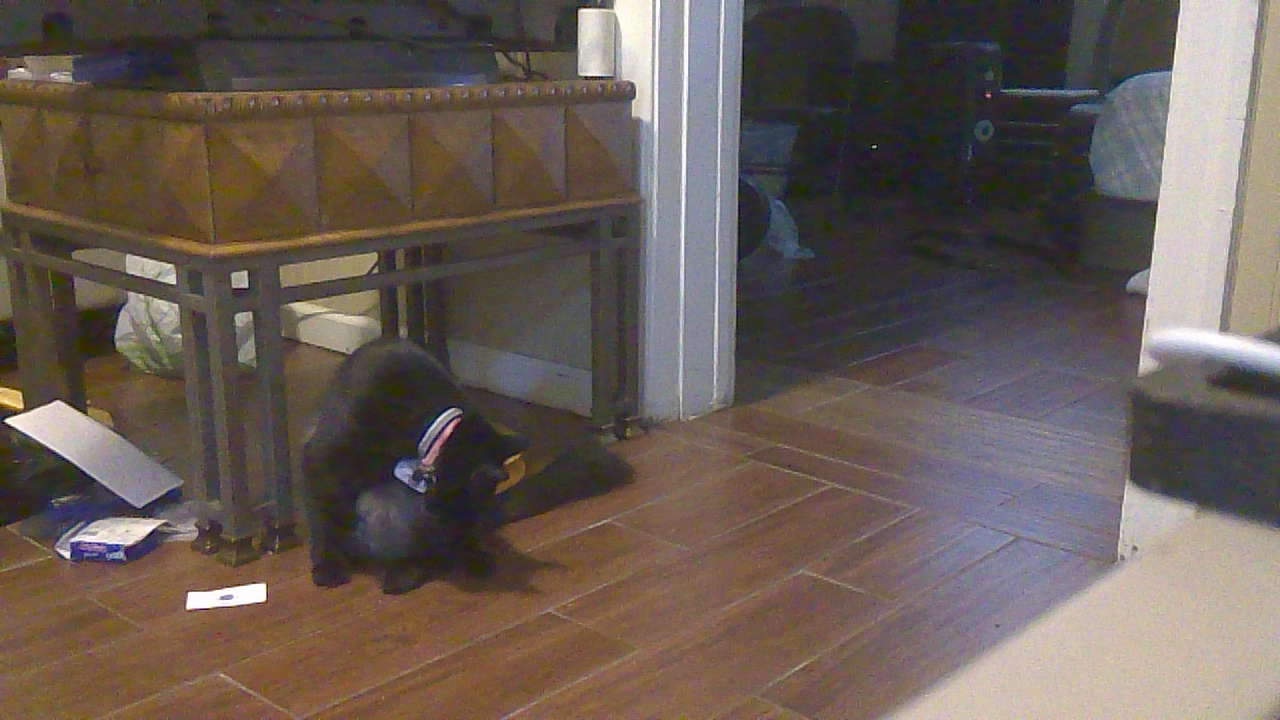cat: (283, 326, 632, 597)
